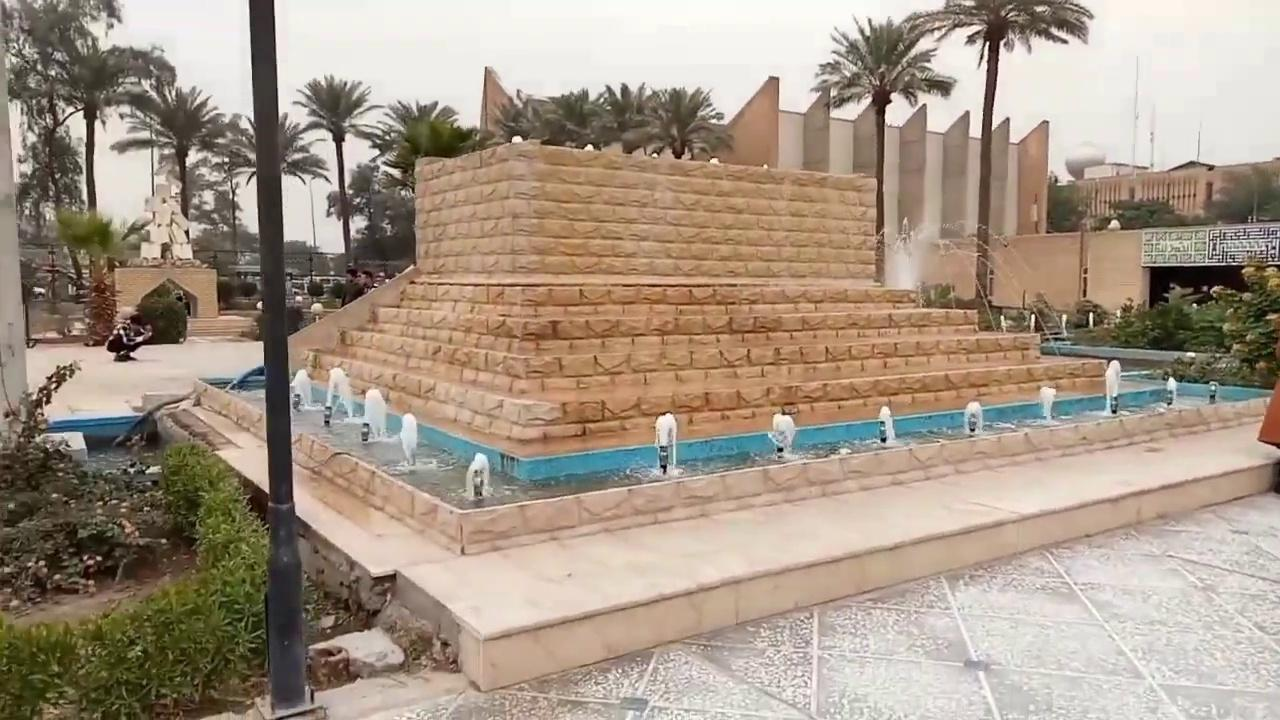fountain: (284, 356, 1266, 512), (653, 410, 677, 474), (463, 450, 493, 498), (769, 405, 796, 458), (361, 386, 388, 439), (1104, 358, 1121, 414), (877, 404, 895, 443)
tree: (898, 0, 1093, 311), (7, 20, 174, 301), (809, 13, 956, 284), (48, 33, 169, 214), (109, 80, 230, 254), (209, 110, 331, 266), (492, 81, 734, 159), (291, 72, 384, 273), (53, 205, 152, 346), (364, 98, 475, 196), (1209, 254, 1279, 387), (220, 110, 331, 188), (635, 84, 732, 160), (324, 160, 377, 266), (209, 146, 253, 263), (589, 81, 656, 153), (537, 86, 605, 149), (494, 89, 550, 143)
